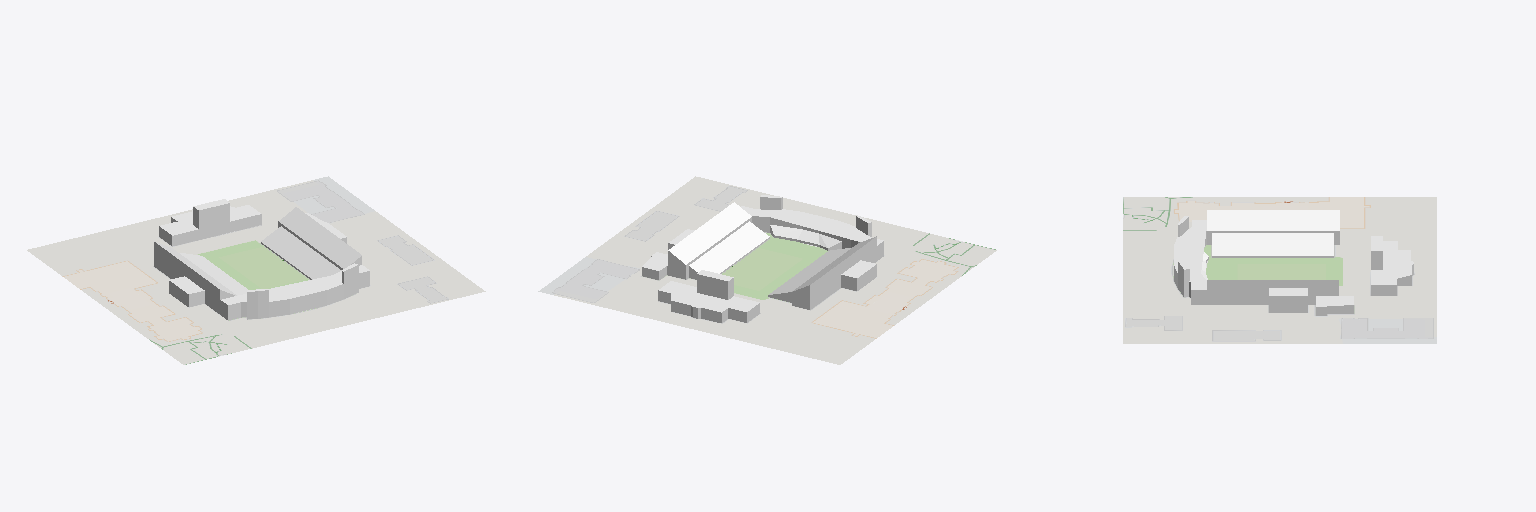
3 views of the same model, side by side, from view 1: azimuth 30°, elevation 25°; view 2: azimuth 150°, elevation 25°; view 3: azimuth 270°, elevation 25° (orthographic).
Parts seen in each view (by area): view 1: Mesh3 Model, Mesh1 Model, Mesh2 Model; view 2: Mesh3 Model, Mesh1 Model, Mesh2 Model; view 3: Mesh3 Model, Mesh1 Model, Mesh2 Model.
Boxes of the visible parts, x1=… form: Mesh3 Model: x1=27, y1=176, x2=485, y2=364; Mesh1 Model: x1=154, y1=207, x2=369, y2=320; Mesh2 Model: x1=159, y1=199, x2=261, y2=246; Mesh3 Model: x1=538, y1=176, x2=996, y2=364; Mesh1 Model: x1=642, y1=195, x2=883, y2=309; Mesh2 Model: x1=658, y1=270, x2=759, y2=322; Mesh3 Model: x1=1123, y1=197, x2=1436, y2=343; Mesh1 Model: x1=1174, y1=210, x2=1353, y2=315; Mesh2 Model: x1=1371, y1=236, x2=1413, y2=295.
Bounding box in the file's own units: 1168 × 109 × 1055.
Materials: 2 (1 with a texture image).